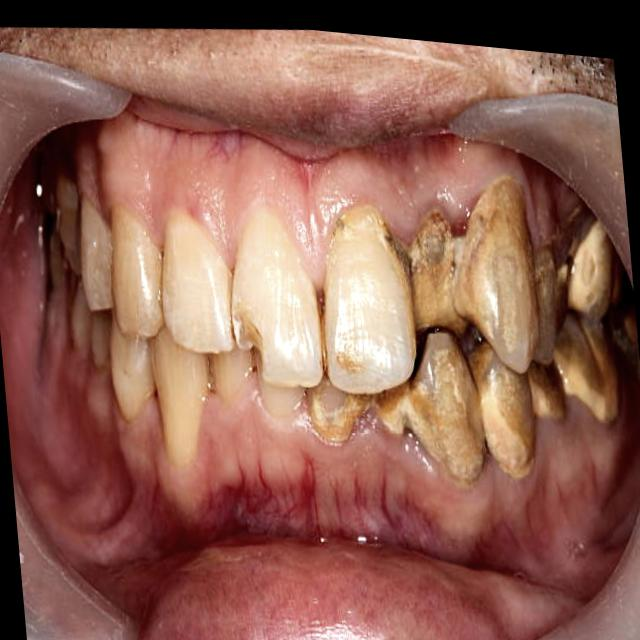calculus: (456, 175, 539, 371), (377, 346, 485, 478), (468, 341, 535, 475), (554, 315, 617, 420), (411, 212, 467, 330), (377, 214, 416, 345), (568, 221, 619, 319), (534, 247, 567, 361), (309, 394, 362, 444), (528, 362, 564, 414), (319, 296, 327, 374)
gingivitis: (79, 380, 629, 572), (63, 115, 577, 264)
